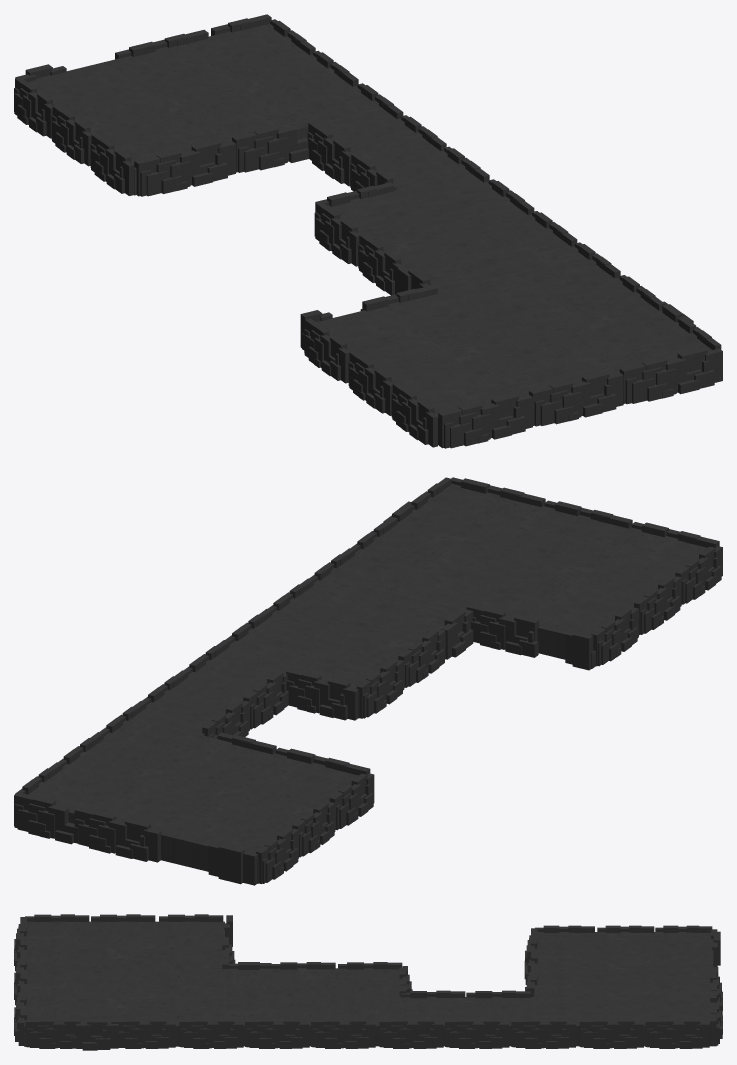
The model's file is stage1_1_4.FBX.
3 views of the same model, one above another, from view 1: azimuth 30°, elevation 25°; view 2: azimuth 150°, elevation 25°; view 3: azimuth 270°, elevation 25° (orthographic). The views are drawn at different scales.
Visible parts, largest first — view 1: Box4367, Box3614, Box4307, Box3896; view 2: Box4367, Box3614, Box4307, Box3896, Box5320, Box5762; view 3: Box4367, Box3614, Box4307, Box3896, Box5589, Box5588, Box5587, Box5485, Box5500, Box5515, Box5530, Box5440 (+1 smaller).
Boxes of the visible parts, box(x1,y1,x2,y2) form: Box4367: box(316, 256, 711, 444); Box3614: box(28, 23, 382, 195); Box4307: box(328, 171, 583, 292); Box3896: box(318, 108, 468, 188); Box4367: box(327, 484, 707, 659); Box3614: box(25, 718, 358, 883); Box4307: box(214, 576, 466, 718); Box3896: box(132, 658, 275, 735); Box5320: box(218, 844, 245, 884); Box5762: box(572, 631, 593, 670); Box4367: box(24, 921, 224, 1046); Box3614: box(534, 932, 713, 1046); Box4307: box(225, 968, 402, 1046); Box3896: box(403, 997, 534, 1046); Box5589: box(76, 1023, 91, 1048); Box5588: box(105, 1023, 118, 1048); Box5587: box(87, 1019, 107, 1037); Box5485: box(498, 1022, 509, 1047); Box5500: box(432, 1022, 443, 1047); Box5515: box(364, 1022, 375, 1047); Box5530: box(298, 1022, 309, 1047); Box5440: box(698, 1022, 709, 1047).
Size of the model in its own units: 1893 by 5030 by 199.
1 material, 1 textured.
